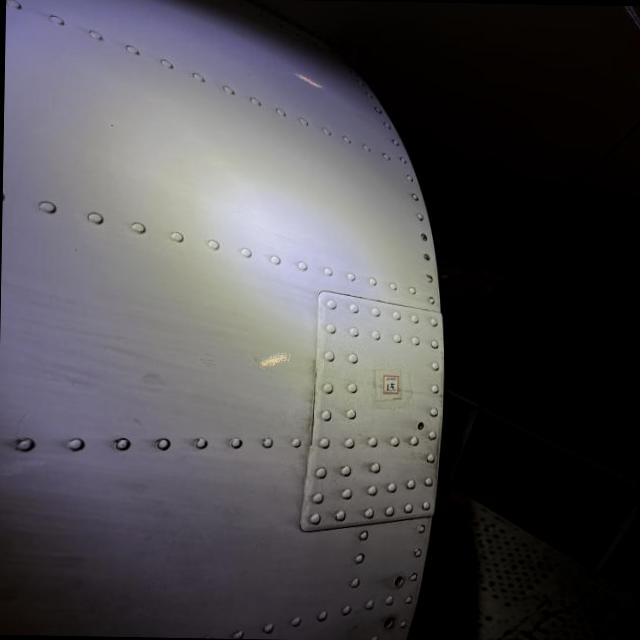Missing Fastener: (391, 572, 408, 590), (379, 614, 396, 632), (416, 418, 426, 434)
